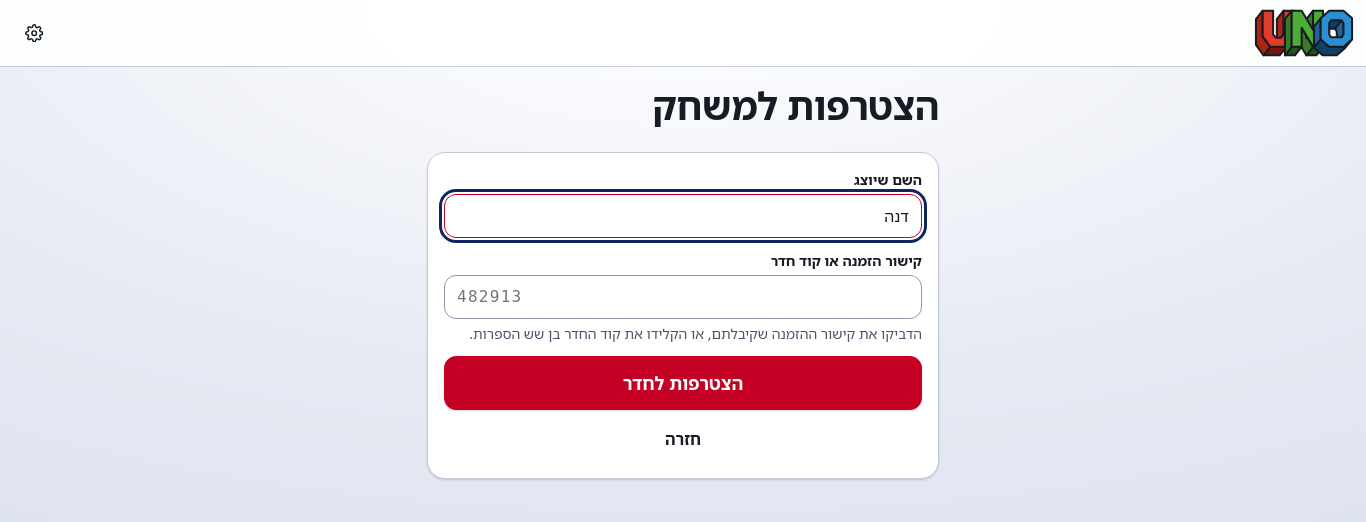
Test: join room form › rejects an unusable room code
Type "not a room" into the field labelled "קישור הזמנה או קוד חדר".
click(683, 297); type("not a room")  # box [444,275,922,319]
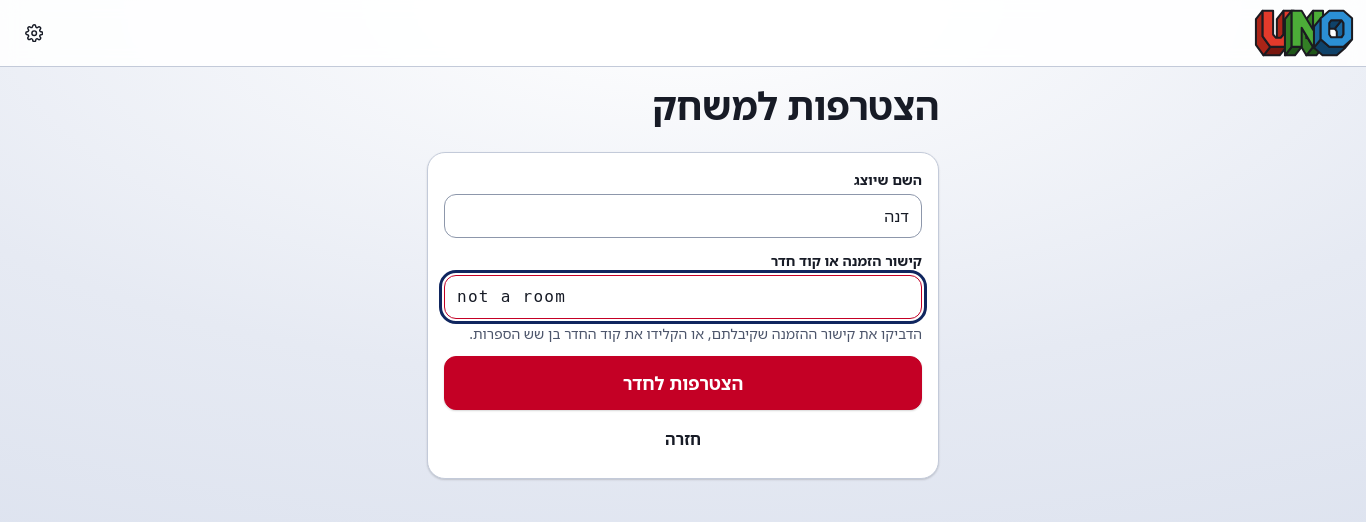
Click the button "הצטרפות לחדר".
click(683, 383)  # box [444,356,922,410]
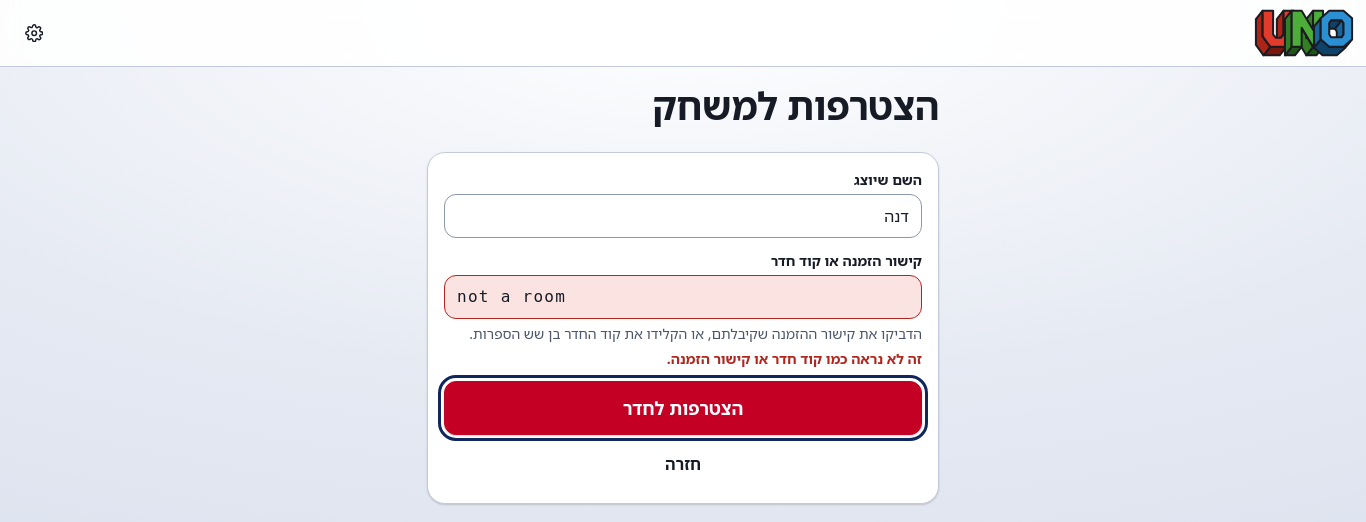
Now the message shows "זה לא נראה כמו קוד חדר", box [667,349,922,368]
